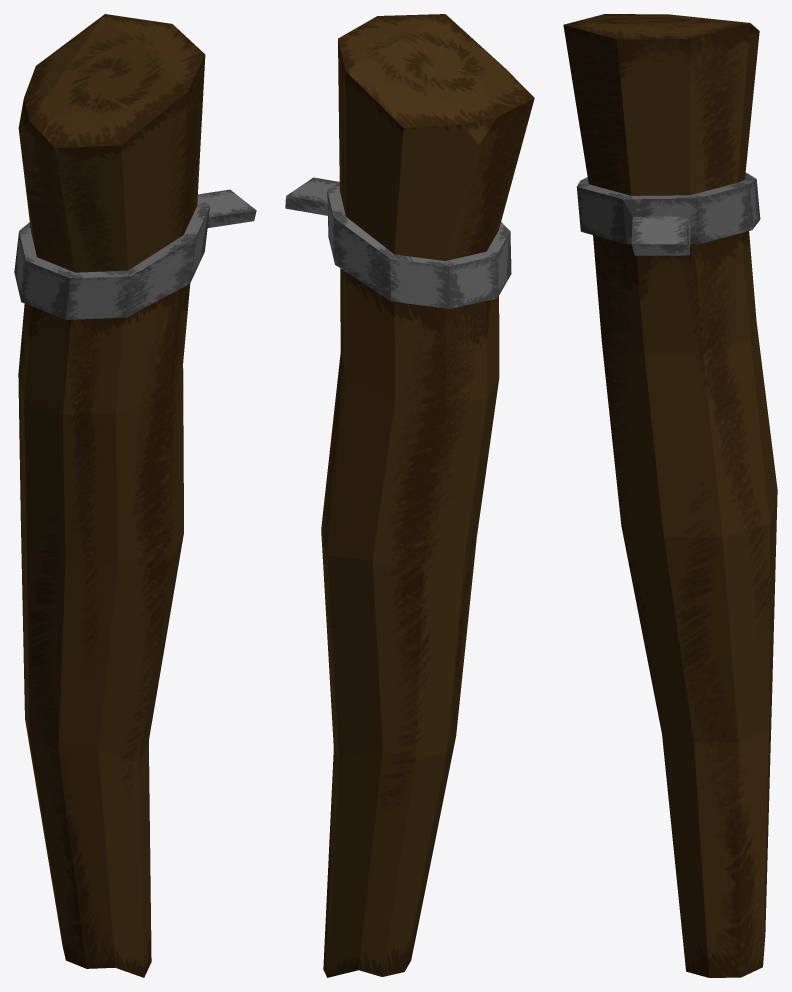
Rendered from torche_sans-path_of-matches.fbx.
The picture shows the model from 3 angles, left to right: view 1: azimuth 30°, elevation 25°; view 2: azimuth 150°, elevation 25°; view 3: azimuth 270°, elevation 25°; orthographic projection. The views are drawn at different scales.
Parts seen in each view (by area): view 1: Cylinder.005; view 2: Cylinder.005; view 3: Cylinder.005.
Part boxes in pixels (left/top/right/bottom): Cylinder.005: left=14, top=14, right=256, bottom=977; Cylinder.005: left=285, top=14, right=534, bottom=977; Cylinder.005: left=563, top=14, right=777, bottom=977.
Bounding box in the file's own units: 37.07 × 155 × 31.73.
Materials: 1 (1 with a texture image).
